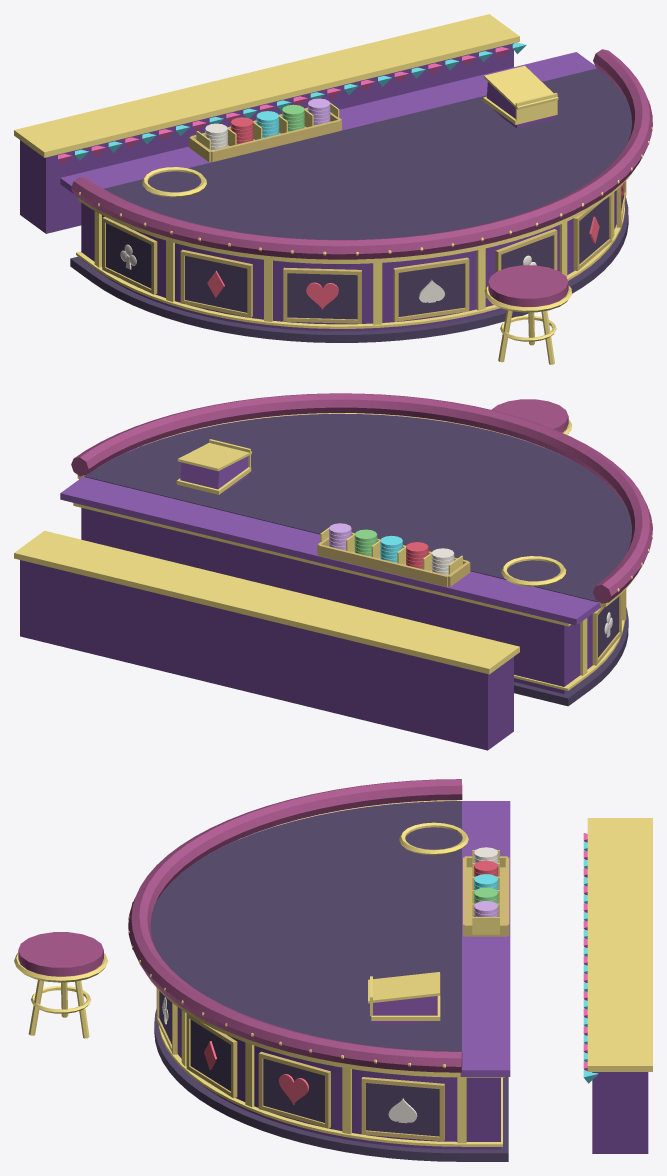
The model's file is blackjack.glb.
3 renders of one model, top to bottom at view 1: azimuth 30°, elevation 25°; view 2: azimuth 150°, elevation 25°; view 3: azimuth 270°, elevation 25°, orthographic. The views are drawn at different scales.
Visible parts, largest first — view 1: feltBed, backCap, railLeather, apronPanels, backCounter, cabinet, topSlab, apronFrames, plinth, apronPilasters, stoolSeat, railGold (+16 smaller); view 2: feltBed, backCounter, cabinet, backCap, railLeather, topSlab, girdle, rackTray, shoeGold, plinth, stoolSeat, shoeBody (+8 smaller); view 3: feltBed, backCap, railLeather, topSlab, apronPanels, cabinet, plinth, apronFrames, backCounter, stoolSeat, shoeGold, apronPilasters (+12 smaller).
Boxes of the visible parts, <box> form: feltBed: <box>103,68,631,239</box>; backCap: <box>14,14,519,157</box>; railLeather: <box>71,49,652,259</box>; apronPanels: <box>106,194,623,319</box>; backCounter: <box>20,43,513,233</box>; cabinet: <box>81,190,616,331</box>; topSlab: <box>60,52,596,193</box>; apronFrames: <box>102,181,626,323</box>; plinth: <box>70,197,628,342</box>; apronPilasters: <box>94,192,614,324</box>; stoolSeat: <box>488,265,568,306</box>; railGold: <box>77,100,652,263</box>; feltBed: <box>84,414,631,602</box>; backCounter: <box>20,560,513,750</box>; cabinet: <box>81,508,592,693</box>; backCap: <box>14,530,519,674</box>; railLeather: <box>71,393,652,603</box>; topSlab: <box>60,413,600,625</box>; girdle: <box>73,503,624,690</box>; rackTray: <box>317,532,470,586</box>; shoeGold: <box>176,439,251,494</box>; plinth: <box>514,607,628,706</box>; stoolSeat: <box>491,399,568,432</box>; shoeBody: <box>180,456,248,490</box>; feltBed: <box>150,801,461,1051</box>; backCap: <box>587,818,652,1071</box>; railLeather: <box>128,779,462,1072</box>; topSlab: <box>208,801,510,1076</box>; apronPanels: <box>159,991,439,1136</box>; cabinet: <box>177,1007,500,1149</box>; plinth: <box>154,1009,508,1161</box>; apronFrames: <box>156,988,444,1141</box>; backCounter: <box>592,1072,648,1153</box>; stoolSeat: <box>18,932,103,976</box>; shoeGold: <box>368,972,440,1020</box>; apronPilasters: <box>181,1010,466,1143</box>.
Size of the model in its own units: 7.17 by 1.53 by 6.85.
